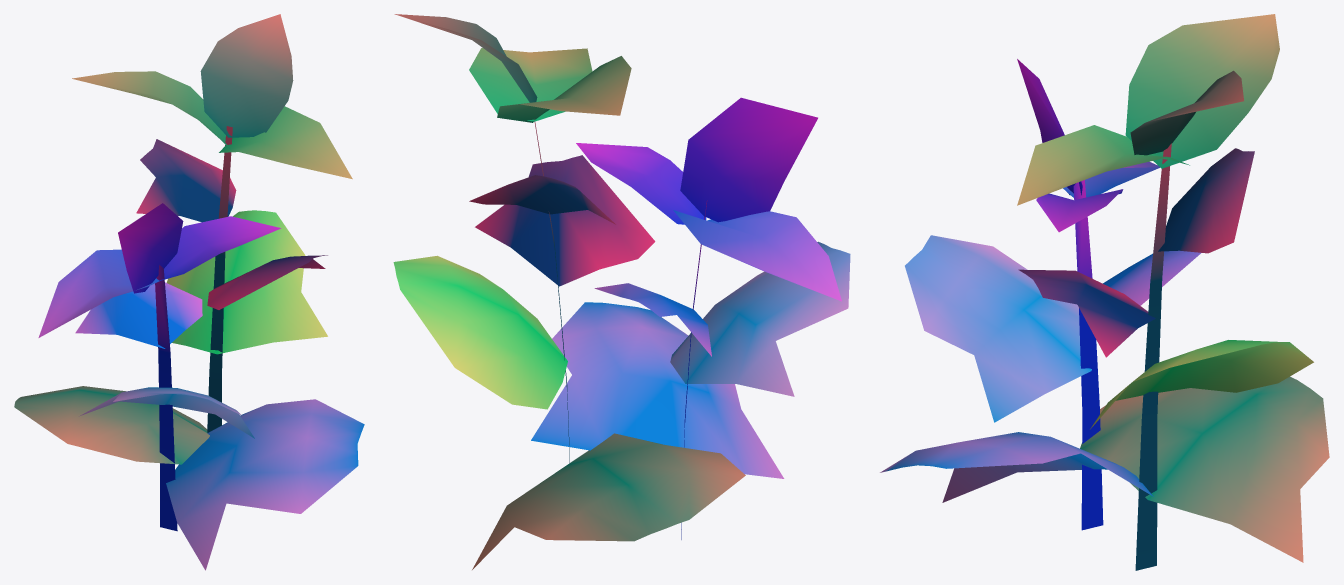
Rendered from Raspberry_wf0oefeja_High_wf0oefeja_VarC_LOD2.fbx.
The picture shows the model from 3 angles, left to right: view 1: azimuth 30°, elevation 25°; view 2: azimuth 150°, elevation 25°; view 3: azimuth 270°, elevation 25°; orthographic projection. The views are drawn at different scales.
Visible parts, largest first — view 1: _99h9_VarC_LOD3; view 2: _99h9_VarC_LOD3; view 3: _99h9_VarC_LOD3.
Boxes of the visible parts, x1,y1,x2,y2 form: _99h9_VarC_LOD3: (14, 14, 364, 570); _99h9_VarC_LOD3: (393, 14, 850, 569); _99h9_VarC_LOD3: (880, 14, 1329, 570).
Size of the model in its own units: 12.1 by 16.32 by 12.53.
